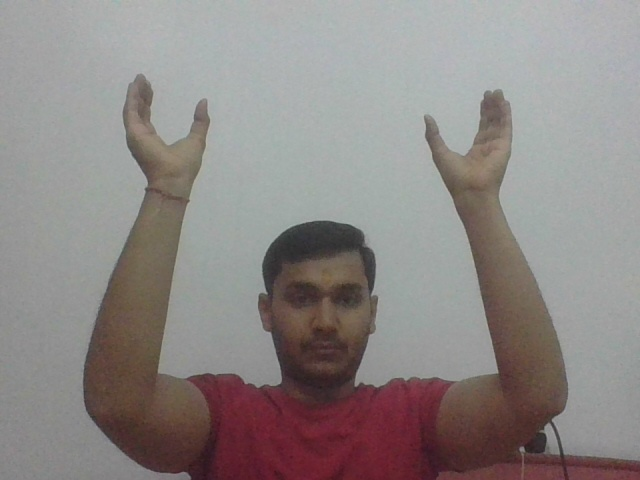U: (119, 69, 217, 189), (422, 85, 516, 198)
